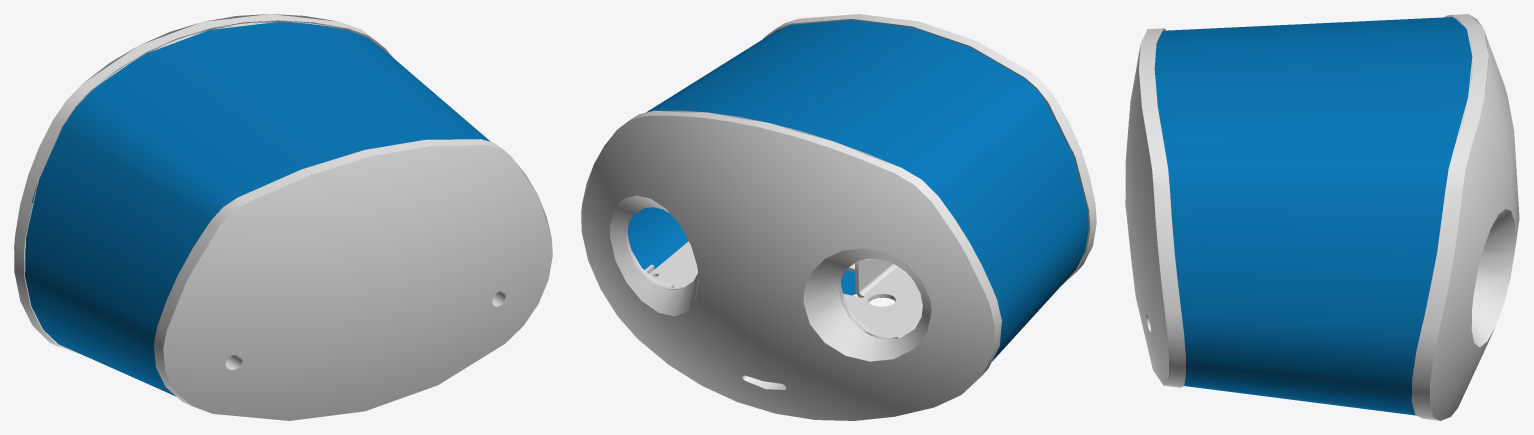
File: spencer_robot_head.dae
3 views of the same model, side by side, from view 1: azimuth 30°, elevation 25°; view 2: azimuth 150°, elevation 25°; view 3: azimuth 270°, elevation 25° (orthographic). The views are drawn at different scales.
Visible parts, largest first — view 1: -DC_Brep_ncl1_49, -DC_Brep_ncl1_50, -DC_Brep_ncl1_51; view 2: -DC_Brep_ncl1_51, -DC_Brep_ncl1_50, -DC_Brep_ncl1_46, -DC_Brep_ncl1_49; view 3: -DC_Brep_ncl1_50, -DC_Brep_ncl1_51, -DC_Brep_ncl1_49.
Boxes of the visible parts, left/top/right/bottom form: -DC_Brep_ncl1_49: left=153, top=139, right=552, bottom=420; -DC_Brep_ncl1_50: left=25, top=22, right=490, bottom=396; -DC_Brep_ncl1_51: left=14, top=14, right=394, bottom=354; -DC_Brep_ncl1_51: left=581, top=110, right=1001, bottom=420; -DC_Brep_ncl1_50: left=627, top=20, right=1088, bottom=361; -DC_Brep_ncl1_46: left=649, top=241, right=922, bottom=338; -DC_Brep_ncl1_49: left=763, top=14, right=1096, bottom=283; -DC_Brep_ncl1_50: left=1154, top=17, right=1472, bottom=415; -DC_Brep_ncl1_51: left=1411, top=14, right=1519, bottom=420; -DC_Brep_ncl1_49: left=1125, top=28, right=1185, bottom=387.
Bounding box in the file's own units: 8.62 × 6.54 × 5.88.
